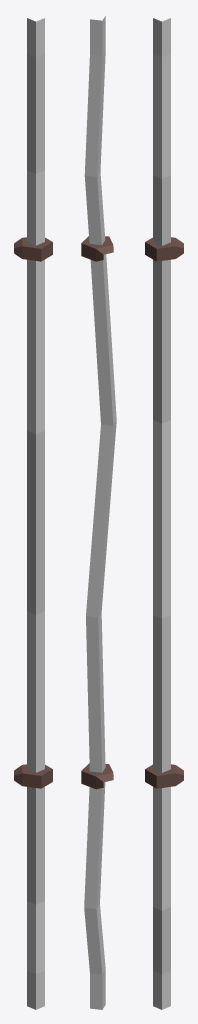
The model's file is SM_Wall_Cable_Vertical_A.gltf.
The picture shows the model from 3 angles, left to right: view 1: azimuth 90°, elevation 25°; view 2: azimuth 210°, elevation 25°; view 3: azimuth 270°, elevation 25°; orthographic projection.
Parts seen in each view (by area): view 1: SM_Wall_Cable_Vertical_A; view 2: SM_Wall_Cable_Vertical_A; view 3: SM_Wall_Cable_Vertical_A.
Boxes of the visible parts, left/top/right/bottom form: SM_Wall_Cable_Vertical_A: left=14, top=18, right=52, bottom=1009; SM_Wall_Cable_Vertical_A: left=81, top=16, right=116, bottom=1009; SM_Wall_Cable_Vertical_A: left=145, top=18, right=183, bottom=1009.
Bounding box in the file's own units: 0.1044 × 3 × 0.107.
2 materials, 1 textured.
